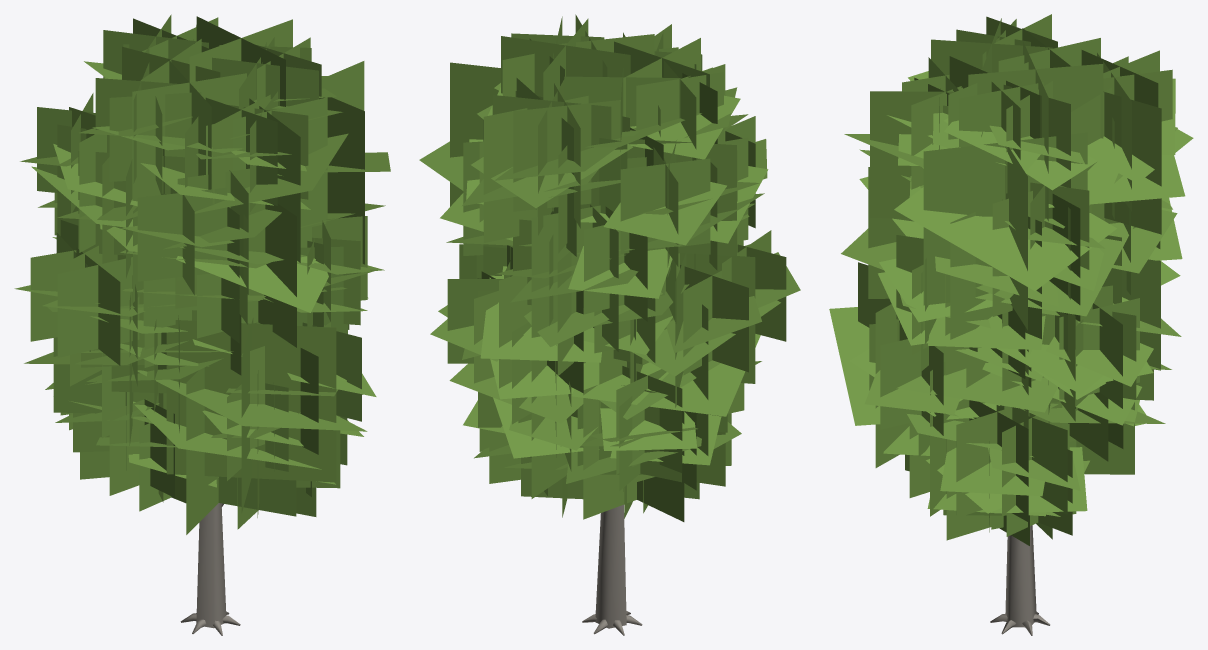
File: tilleul_4_loin.glb
The picture shows the model from 3 angles, left to right: view 1: azimuth 30°, elevation 25°; view 2: azimuth 150°, elevation 25°; view 3: azimuth 270°, elevation 25°; orthographic projection.
Visible parts, largest first — view 1: Tilleul_T4_Leger_Loin; view 2: Tilleul_T4_Leger_Loin; view 3: Tilleul_T4_Leger_Loin.
Boxes of the visible parts, box(x1,y1,x2,y2) form: Tilleul_T4_Leger_Loin: box(14, 14, 390, 635); Tilleul_T4_Leger_Loin: box(419, 14, 800, 635); Tilleul_T4_Leger_Loin: box(829, 14, 1193, 635).
Size of the model in its own units: 11.8 by 17.76 by 10.22.
